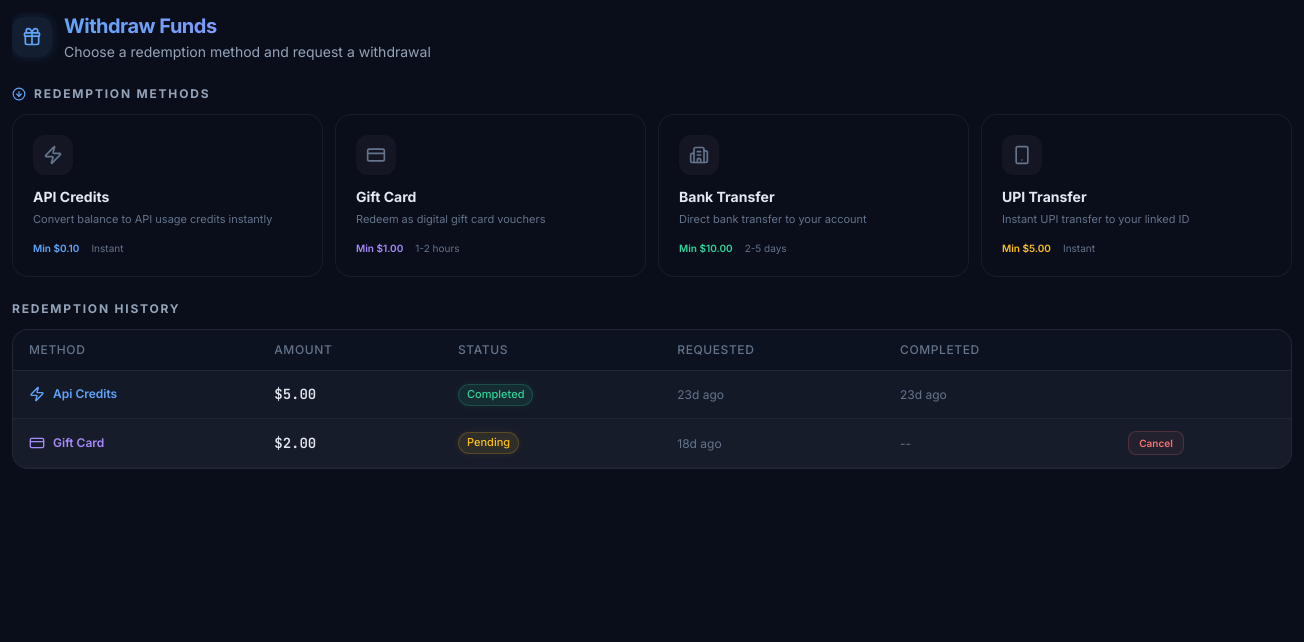
Test: RedeemPage › shows amount input when a method is selected
Click the text "API Credits" at (71, 196), box [33,188,109,205]
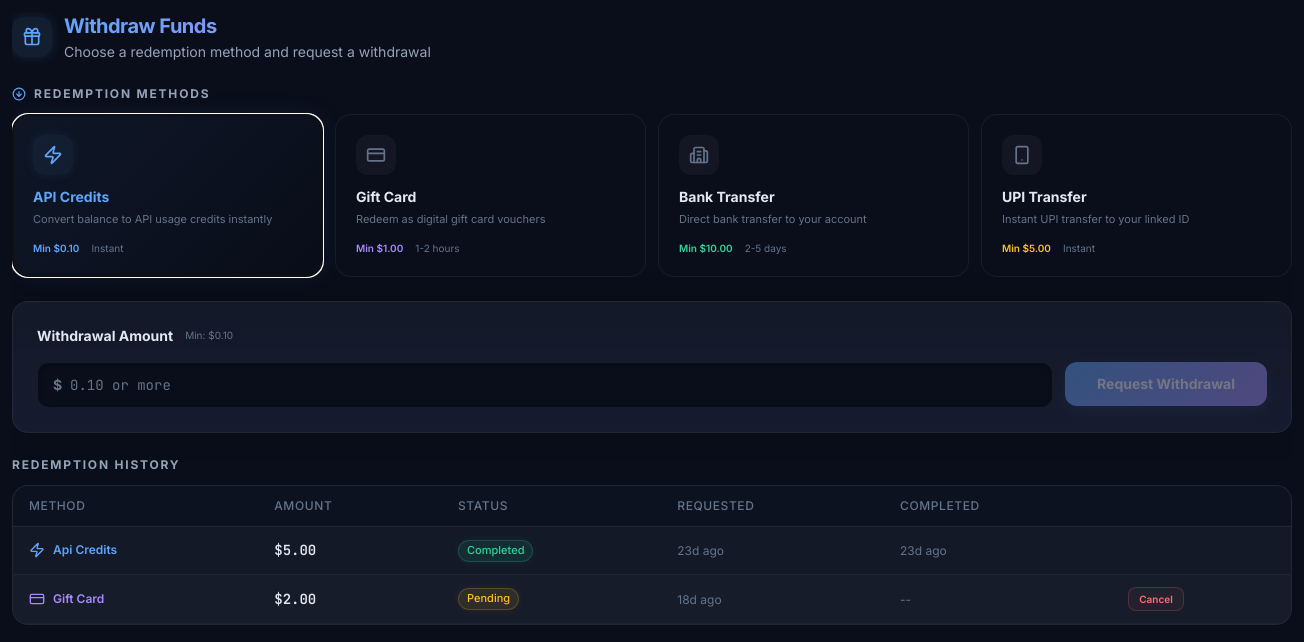
Expected: the heading "Withdrawal Amount" is shown, [37,326,173,346]
